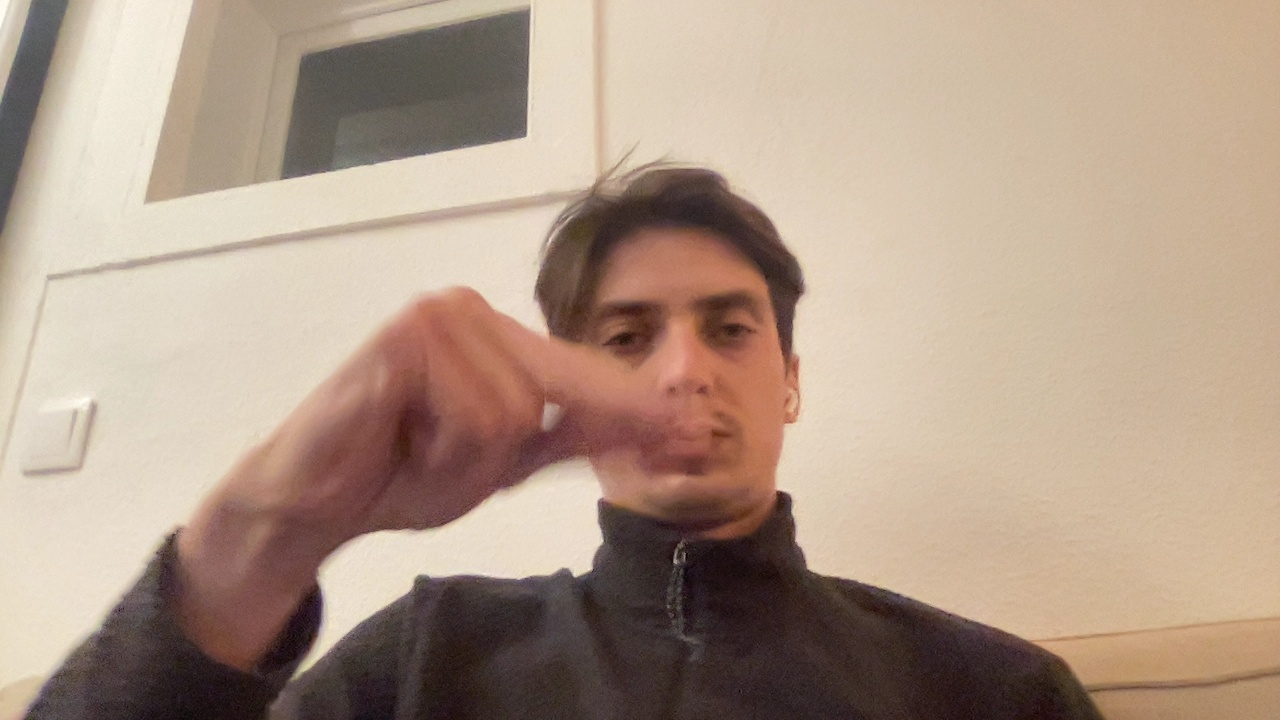no: (147, 228, 736, 634)
